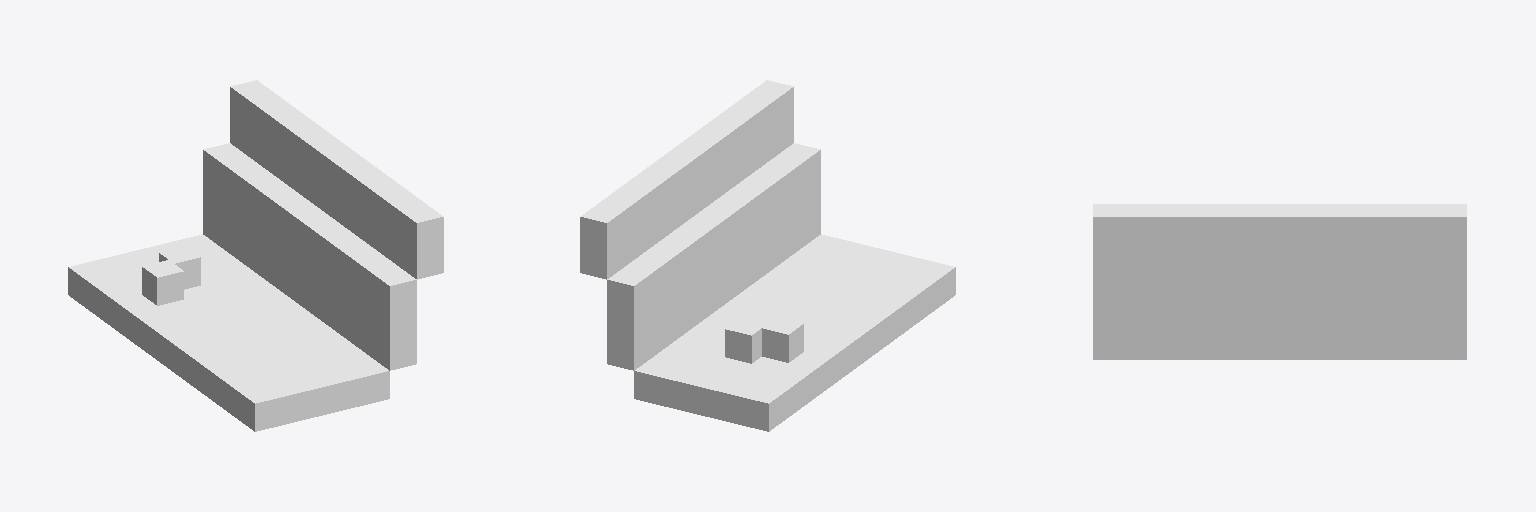
Rendered from map1.74.vox.obj.
3 views of the same model, side by side, from view 1: azimuth 30°, elevation 25°; view 2: azimuth 150°, elevation 25°; view 3: azimuth 270°, elevation 25° (orthographic).
Parts seen in each view (by area): view 1: object 1; view 2: object 1; view 3: object 1.
Part boxes in pixels (x1,y1,x2,y2): object 1: (68,80,443,431); object 1: (580,80,955,431); object 1: (1093,204,1466,359).
Size of the model in its own units: 14 by 12 by 24.